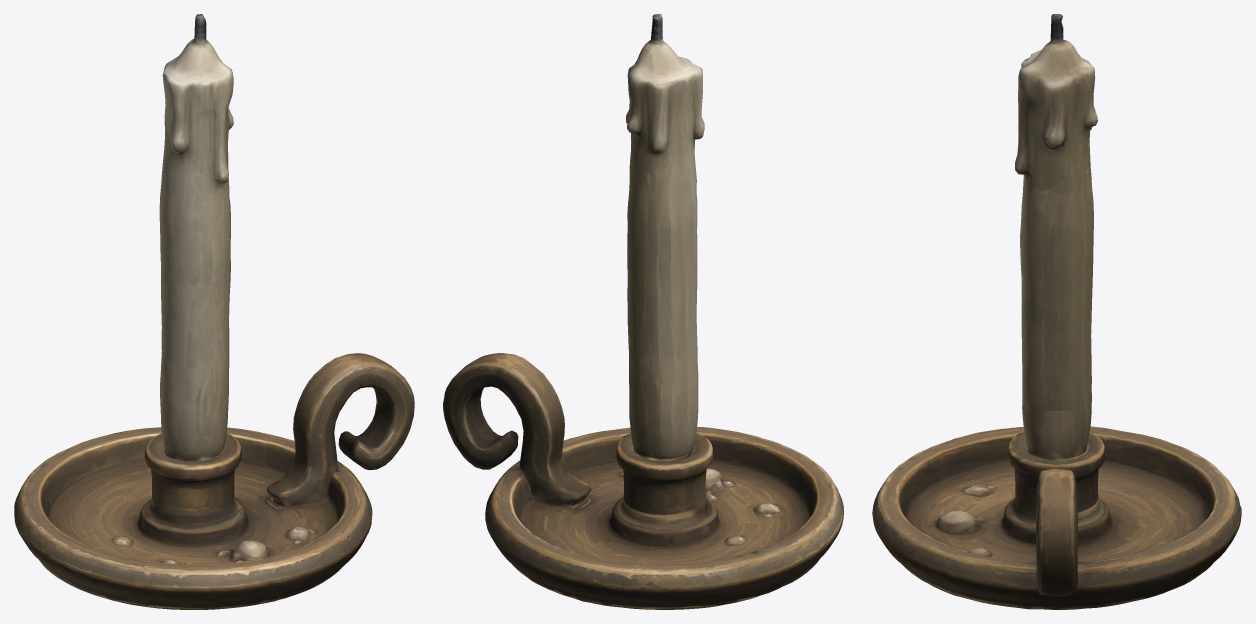
Rendered from Prop_HandCandle.fbx.
3 renders of one model, left to right at view 1: azimuth 30°, elevation 25°; view 2: azimuth 150°, elevation 25°; view 3: azimuth 270°, elevation 25°, orthographic.
Visible parts, largest first — view 1: texture_mapping; view 2: texture_mapping; view 3: texture_mapping.
Part boxes in pixels (x1,y1,x2,y2): texture_mapping: (14, 14, 414, 609); texture_mapping: (443, 14, 843, 609); texture_mapping: (872, 14, 1241, 609).
Bounding box in the file's own units: 0.7275 × 0.6217 × 0.9873.
Materials: 1 (1 with a texture image).
